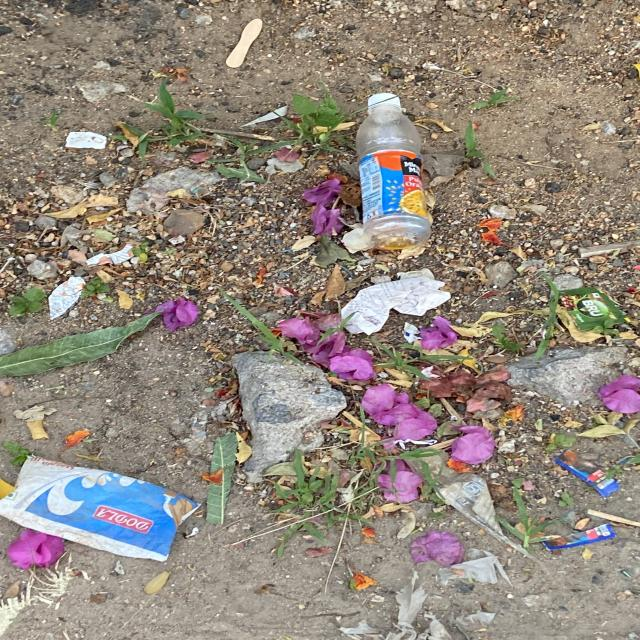chai_nhua: (356, 92, 431, 249)
giay: (341, 269, 451, 335)
giay_goi: (554, 451, 621, 498), (560, 287, 627, 332), (544, 525, 617, 552)
goi_nhua_nho: (0, 458, 198, 562)
rac_huu_co: (225, 17, 262, 67)
